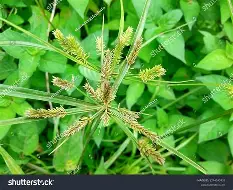weed: (52, 31, 170, 163)
